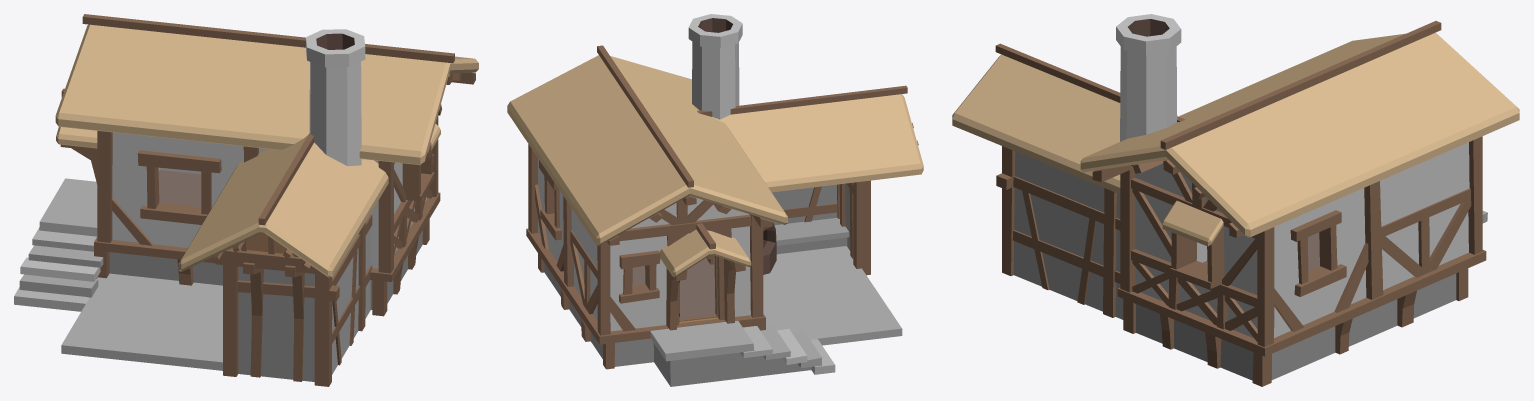
File: BlackSmithShop.fbx
3 renders of one model, left to right at view 1: azimuth 30°, elevation 25°; view 2: azimuth 150°, elevation 25°; view 3: azimuth 270°, elevation 25°, orthographic. The views are drawn at different scales.
Visible parts, largest first — view 1: BlacksmithShop; view 2: BlacksmithShop; view 3: BlacksmithShop.
Part boxes in pixels (bbox=[...]): BlacksmithShop: bbox=[14, 14, 478, 386]; BlacksmithShop: bbox=[507, 14, 923, 386]; BlacksmithShop: bbox=[952, 14, 1519, 386].
Bounding box in the file's own units: 1296 × 783 × 1417.
